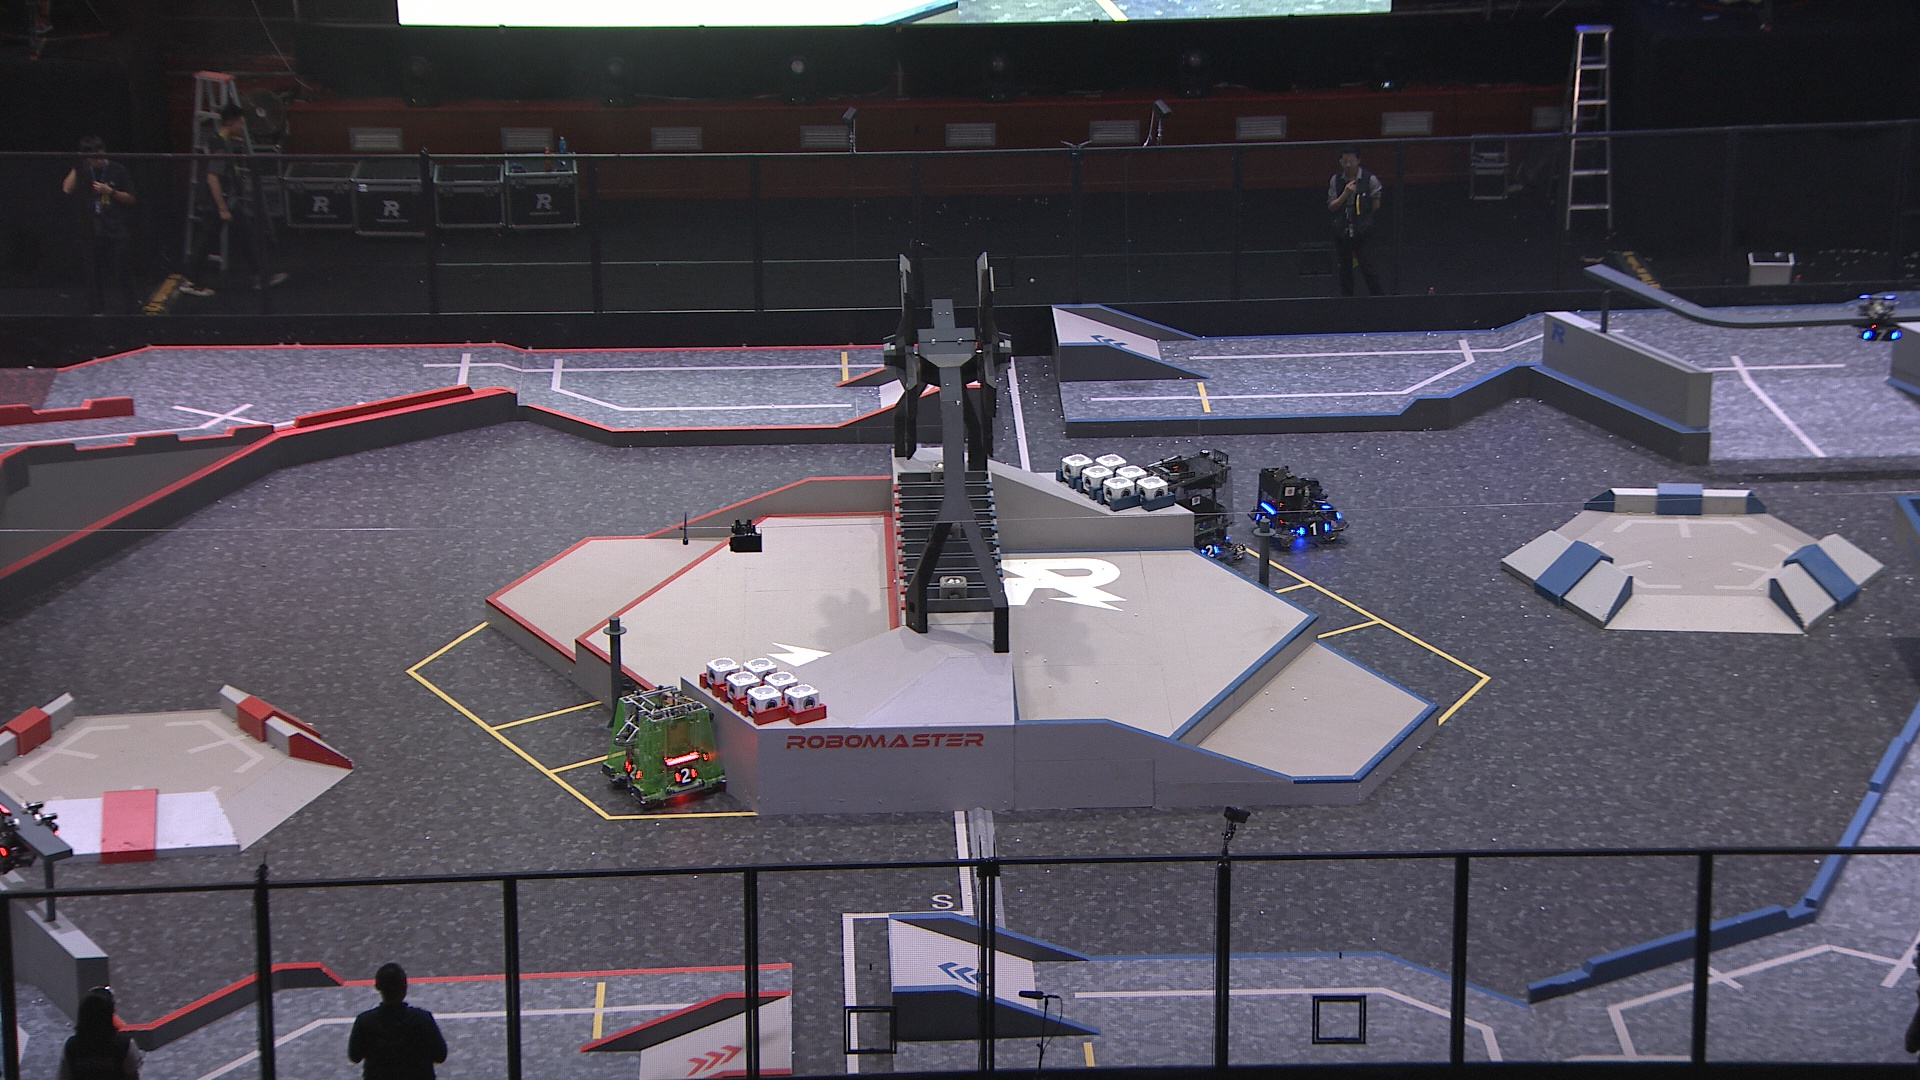armor: (1300, 520, 1332, 538), (622, 760, 646, 783), (1865, 327, 1902, 342), (674, 767, 700, 785), (1201, 542, 1221, 560), (1313, 498, 1333, 510), (1253, 513, 1271, 524)
car: (603, 680, 728, 811), (1139, 448, 1247, 568), (1244, 463, 1352, 546)
watcher: (1855, 291, 1903, 342)
